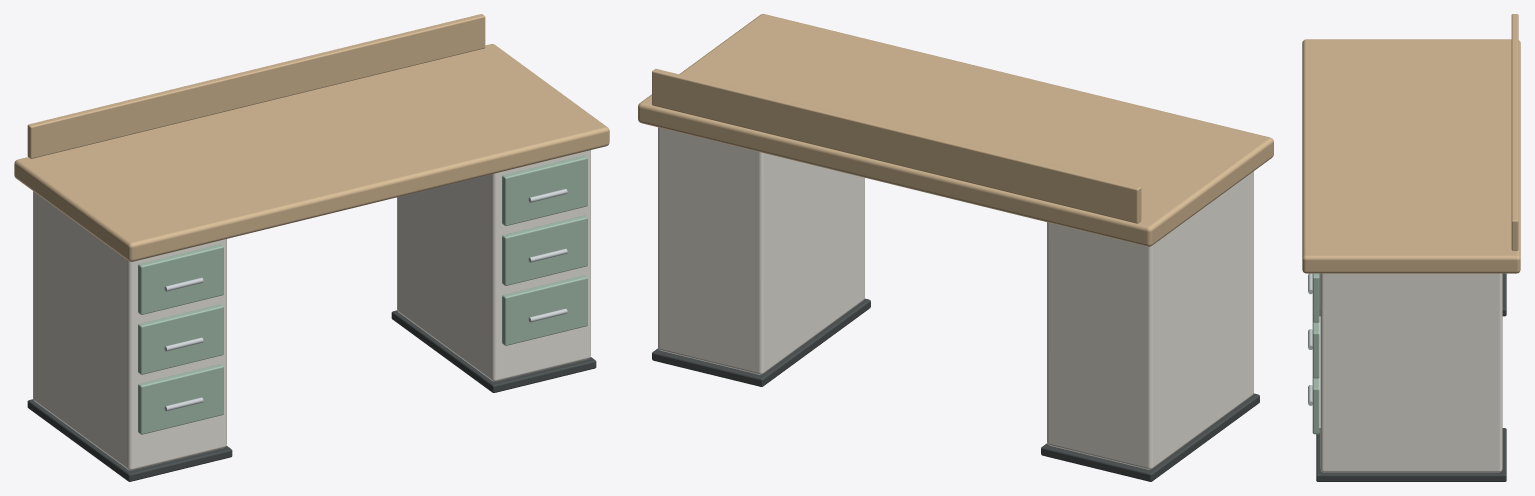
Rendered from hearing-aid-and-audiology-clinic-fabrication-bench-8ecf51f7__31749.glb.
3 renders of one model, left to right at view 1: azimuth 30°, elevation 25°; view 2: azimuth 150°, elevation 25°; view 3: azimuth 270°, elevation 25°, orthographic. The views are drawn at different scales.
Visible parts, largest first — view 1: fabrication-bench; view 2: fabrication-bench; view 3: fabrication-bench.
Boxes of the visible parts, x1,y1,x2,y2 form: fabrication-bench: (14, 14, 609, 481); fabrication-bench: (638, 14, 1273, 481); fabrication-bench: (1302, 14, 1520, 481).
Bounding box in the file's own units: 1.85 × 1.02 × 0.7801.
